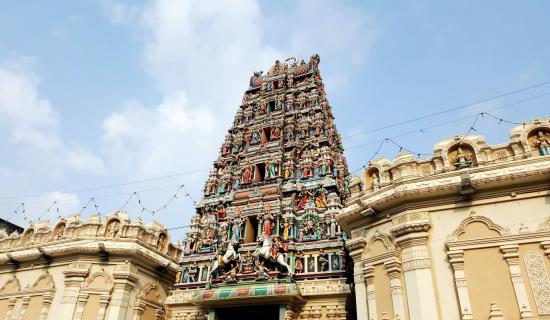Hindu Temple: (193, 44, 342, 315)
